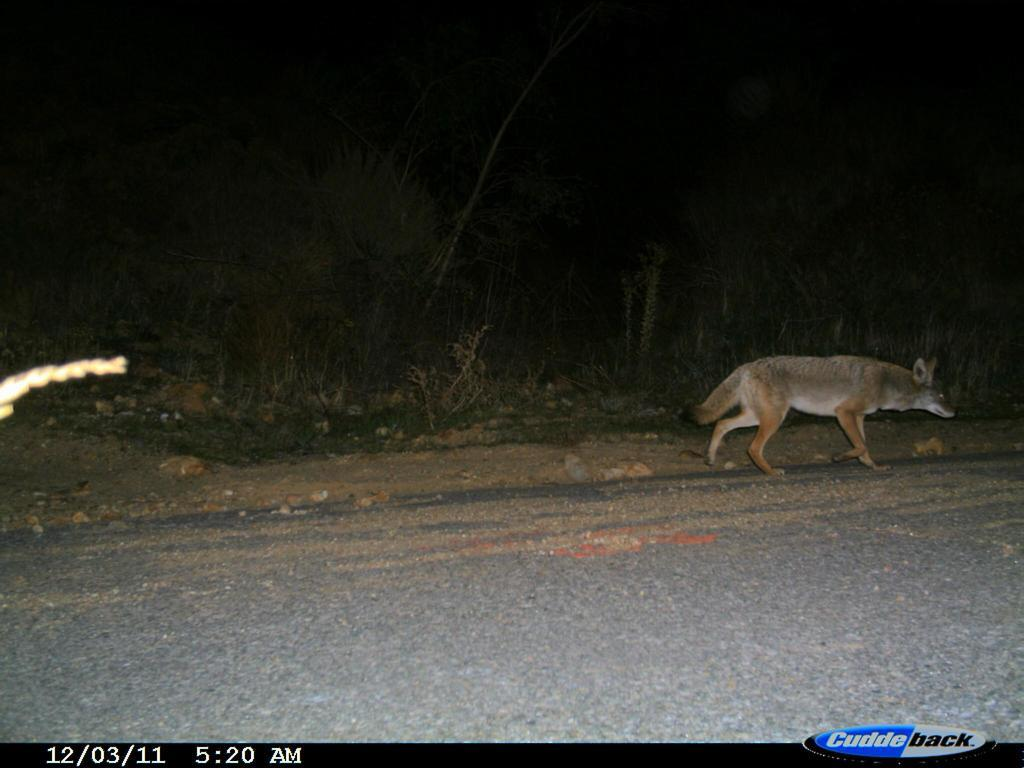coyote: (688, 349, 954, 482)
